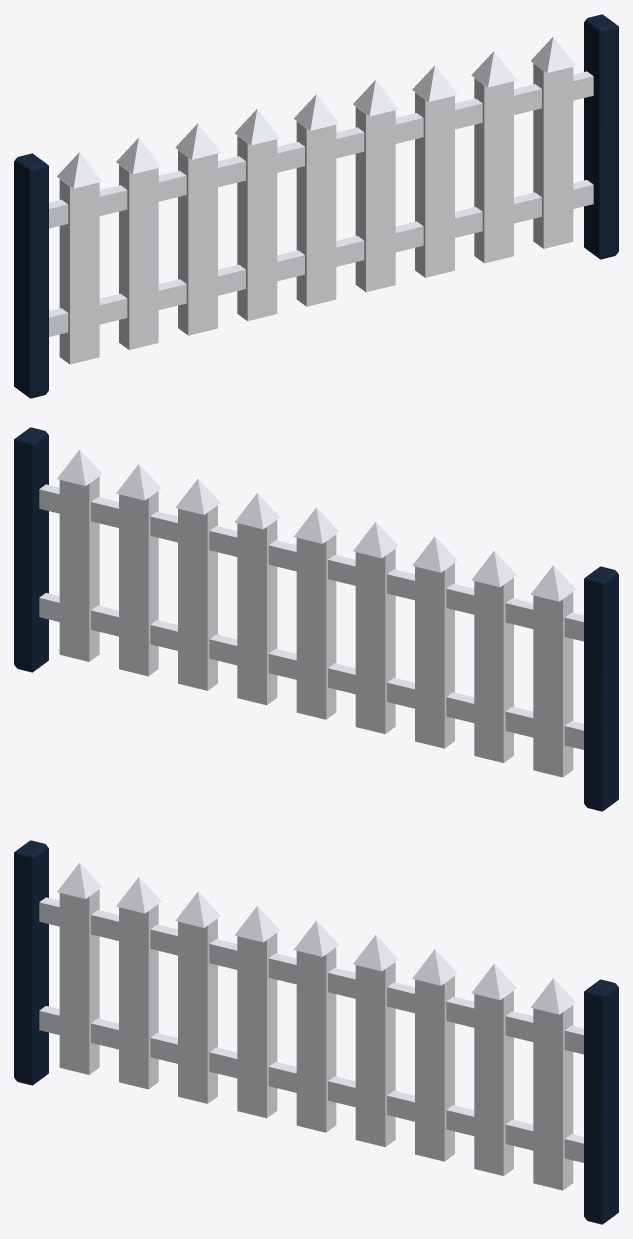
The model's file is CM_Prop_Fence.fbx.
3 views of the same model, one above another, from view 1: azimuth 30°, elevation 25°; view 2: azimuth 150°, elevation 25°; view 3: azimuth 330°, elevation 25° (orthographic).
Visible parts, largest first — view 1: Body; view 2: Body; view 3: Body.
Part boxes in pixels (x1,y1,x2,y2): Body: (14,14,618,398); Body: (14,427,618,811); Body: (14,840,618,1224).
Size of the model in its own units: 8 by 0.4 by 3.
1 material, 1 textured.
